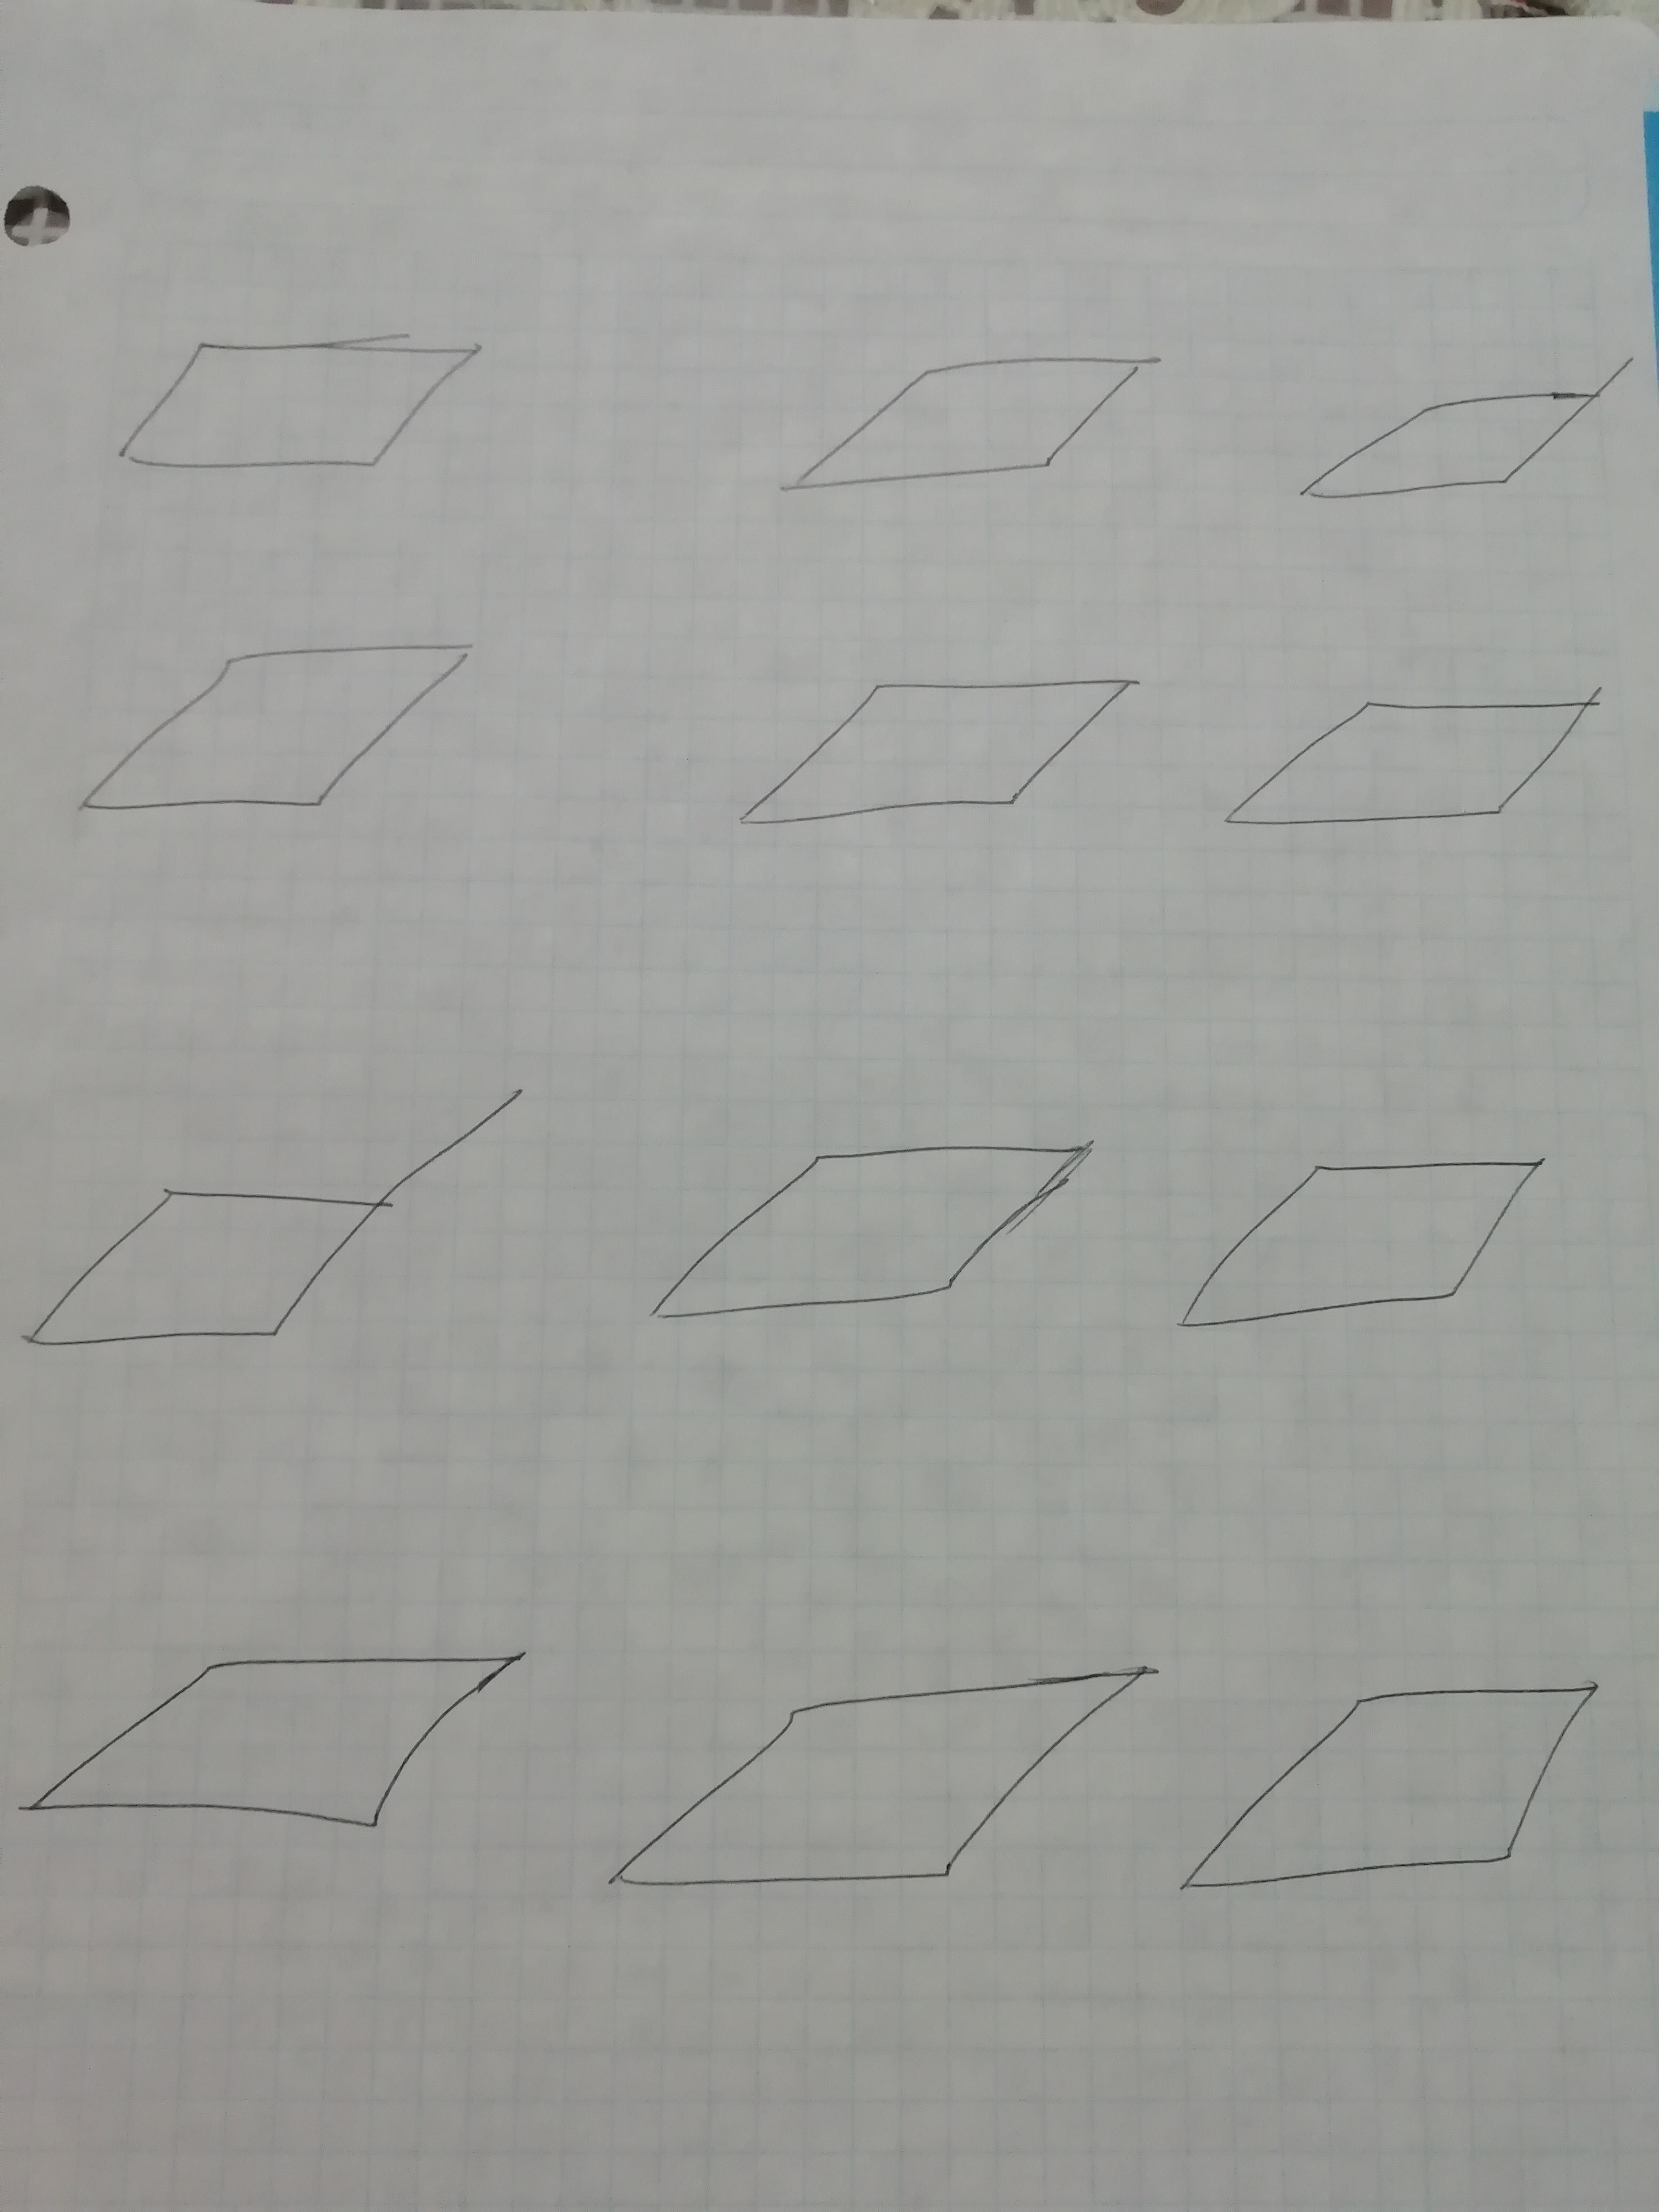scan: (16, 1045, 554, 1404), (587, 1623, 1171, 1932), (12, 1595, 554, 1897), (601, 1103, 1119, 1372), (30, 596, 533, 862), (1171, 1651, 1629, 1928), (1154, 1123, 1582, 1374), (718, 634, 1164, 869), (749, 301, 1199, 531), (1208, 651, 1633, 864), (87, 291, 498, 510), (1263, 336, 1650, 542)
